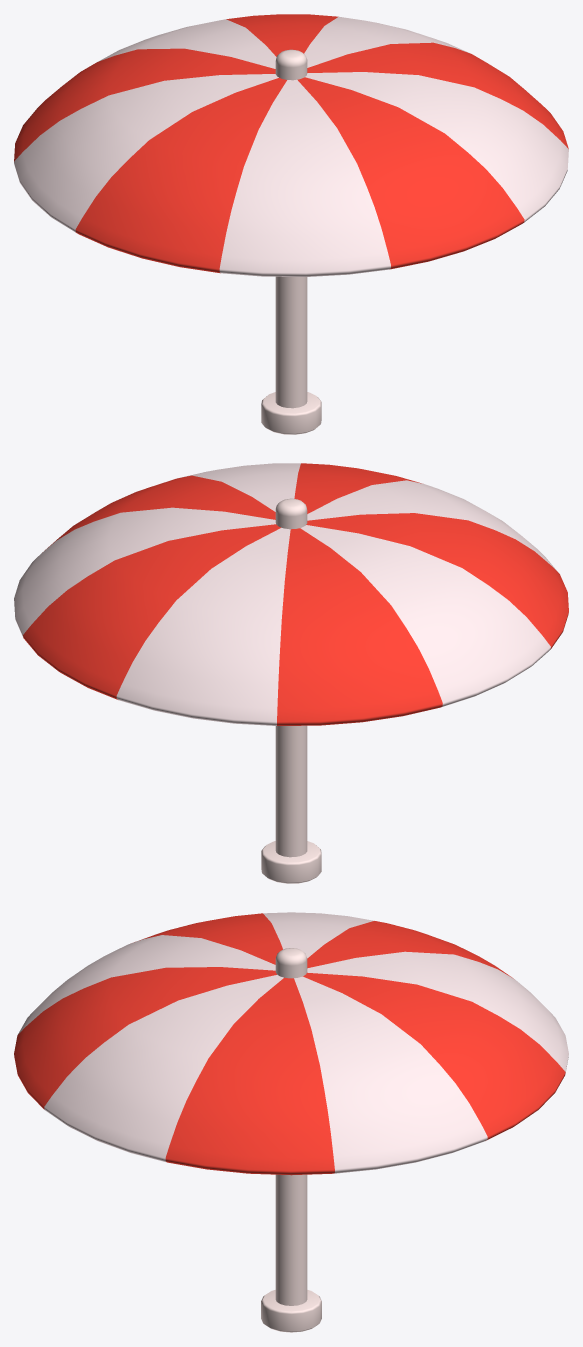
The model's file is City_3_Umbrella_1.glb.
The picture shows the model from 3 angles, top to bottom: view 1: azimuth 30°, elevation 25°; view 2: azimuth 150°, elevation 25°; view 3: azimuth 270°, elevation 25°; orthographic projection.
Parts seen in each view (by area): view 1: City_3_Umbrella_1; view 2: City_3_Umbrella_1; view 3: City_3_Umbrella_1.
Boxes of the visible parts, box(x1,y1,x2,y2) form: City_3_Umbrella_1: box(14, 14, 568, 434); City_3_Umbrella_1: box(14, 463, 568, 883); City_3_Umbrella_1: box(14, 912, 568, 1332).
Bounding box in the file's own units: 1.73 × 1.27 × 1.73.
Materials: 1 (1 with a texture image).
